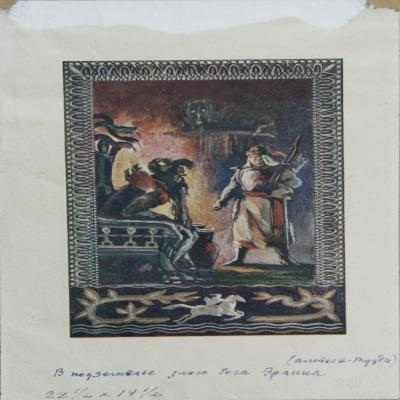graphics: (46, 43, 368, 349)
